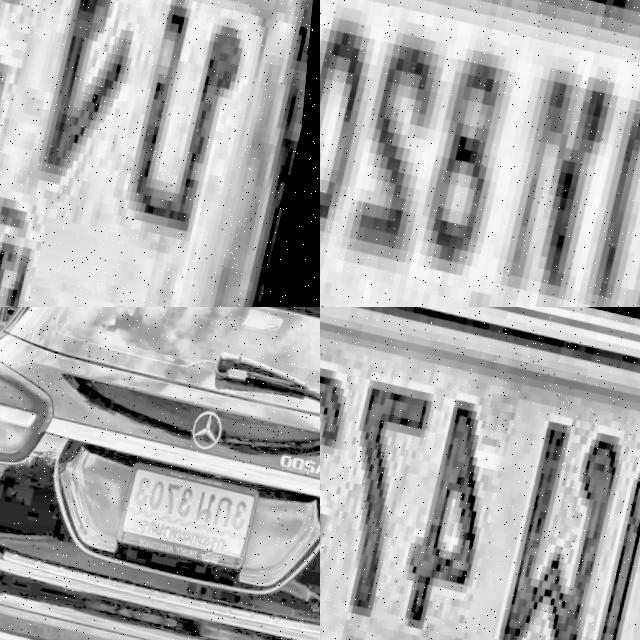license-plate: (320, 307, 640, 640), (0, 0, 320, 307), (320, 0, 640, 307), (120, 453, 267, 568)
